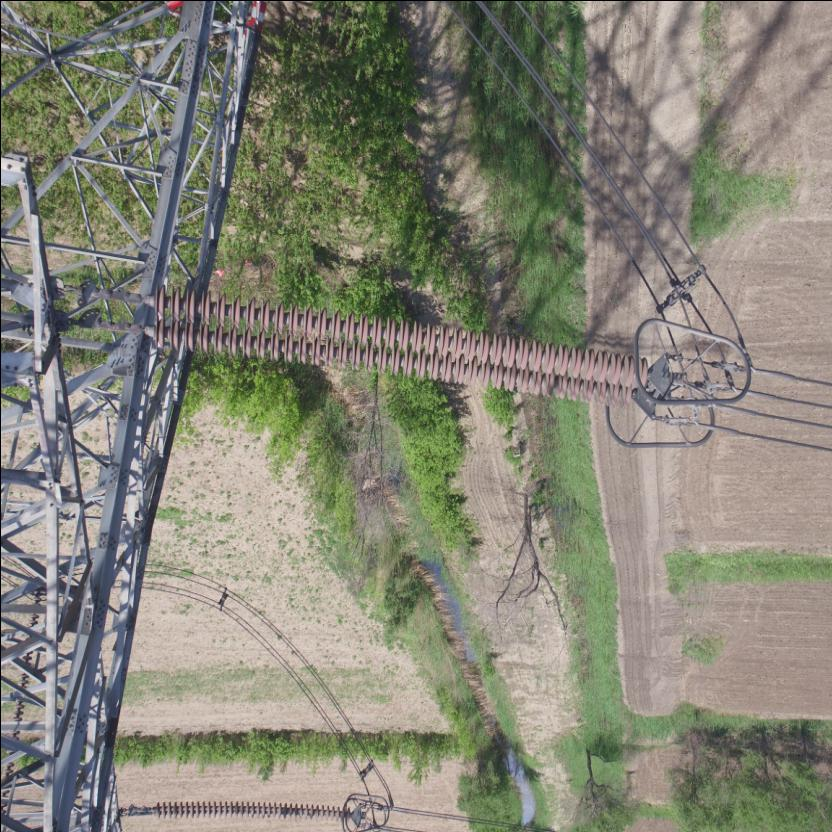insulator: (118, 279, 660, 417)
